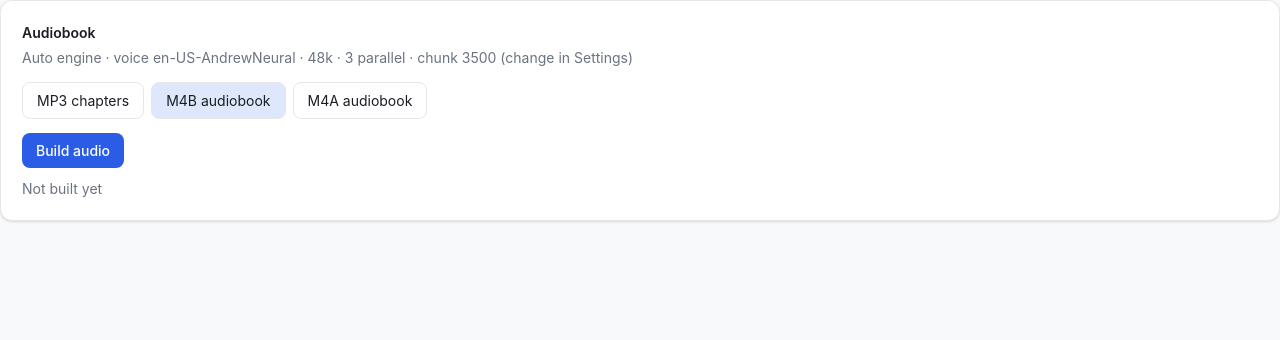
Audiobook — Step 7 MP3/M4B/M4A › m4b with ffmpeg and no audiobook shows no ffmpeg warning
What coordinates should you click on to do the following:
click the button with test id "audio-build"
I would click on:
 (73, 150)
Its box is [22,132,124,168].
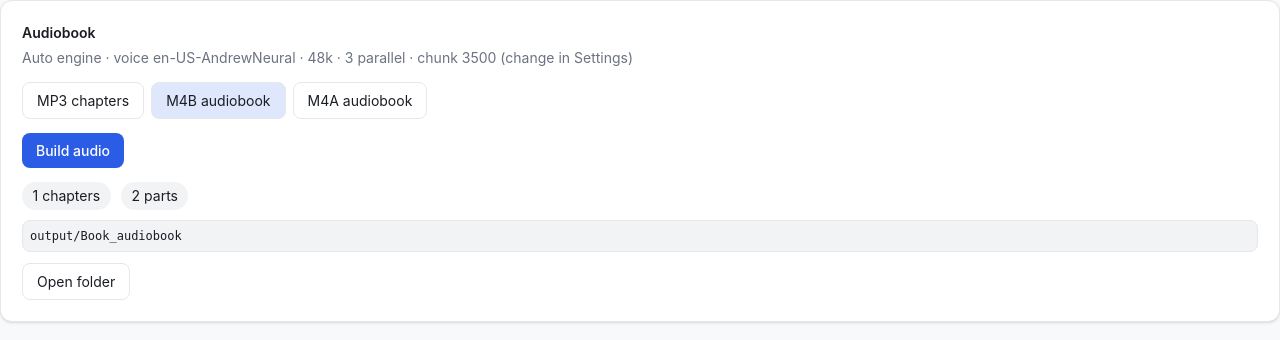
Expected: the element with test id "audio-result" is shown, [22,182,1258,300]
